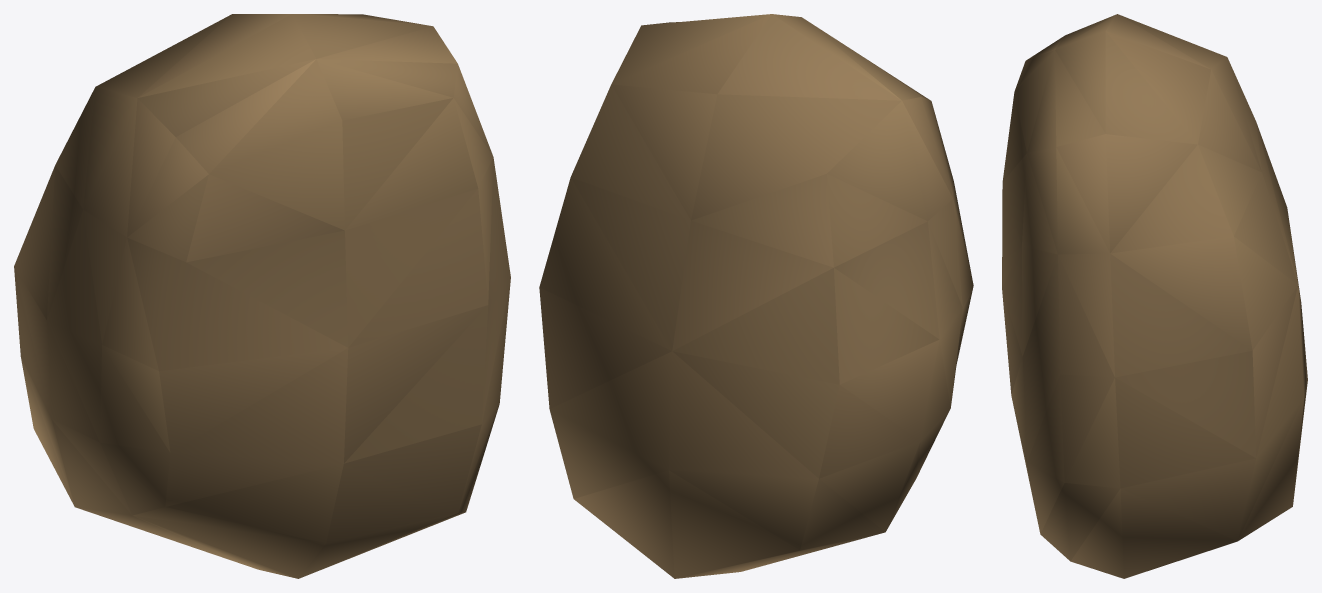
File: SmallSandChunk.005.glb
The picture shows the model from 3 angles, left to right: view 1: azimuth 30°, elevation 25°; view 2: azimuth 150°, elevation 25°; view 3: azimuth 270°, elevation 25°; orthographic projection. The views are drawn at different scales.
Visible parts, largest first — view 1: SmallSandChunk.005; view 2: SmallSandChunk.005; view 3: SmallSandChunk.005.
Part boxes in pixels (<box>): SmallSandChunk.005: <box>14,14,510,578</box>; SmallSandChunk.005: <box>539,14,973,578</box>; SmallSandChunk.005: <box>1002,14,1307,578</box>.
Bounding box in the file's own units: 274 × 361 × 194.
